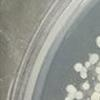white: (66, 84, 78, 93), (74, 90, 84, 100), (89, 53, 99, 63), (93, 34, 100, 48), (94, 67, 100, 83), (66, 92, 75, 100), (78, 81, 88, 88), (90, 93, 100, 100), (93, 83, 100, 92), (74, 62, 81, 70), (84, 61, 91, 68), (81, 67, 88, 73), (80, 72, 87, 78), (94, 60, 100, 67)
